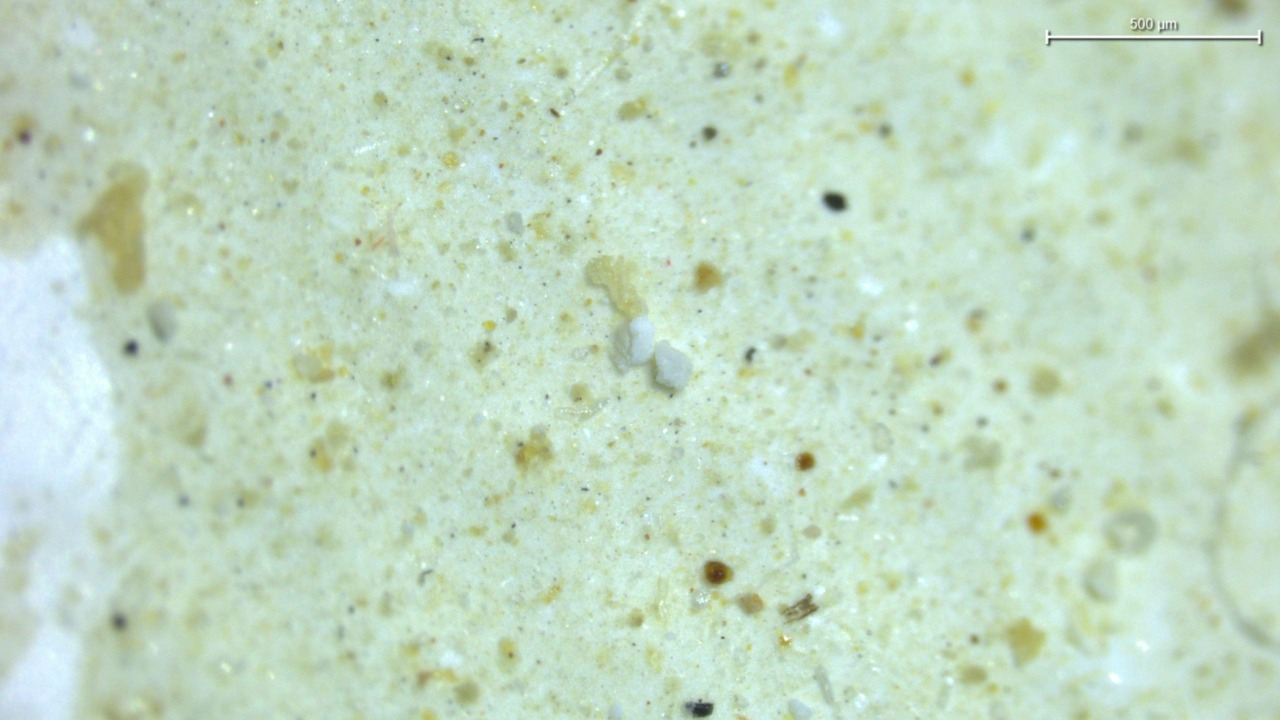microplastic_fragment: (654, 340, 692, 391), (629, 316, 654, 363)
